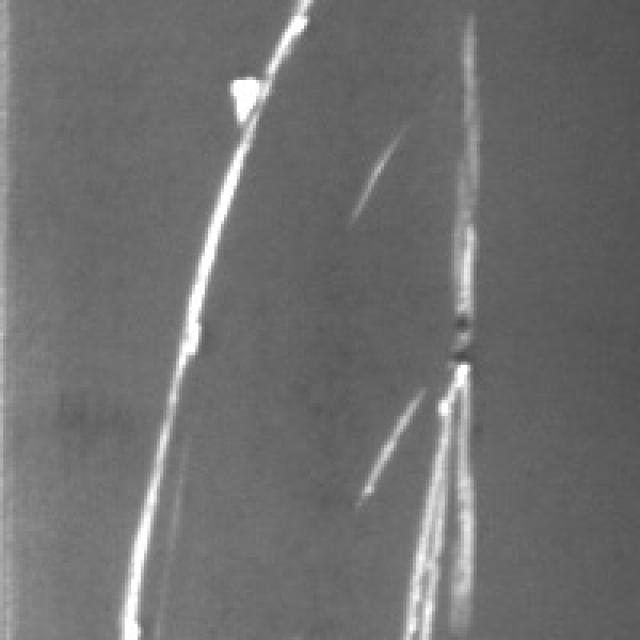scratches: (108, 0, 307, 630), (355, 13, 480, 630)
